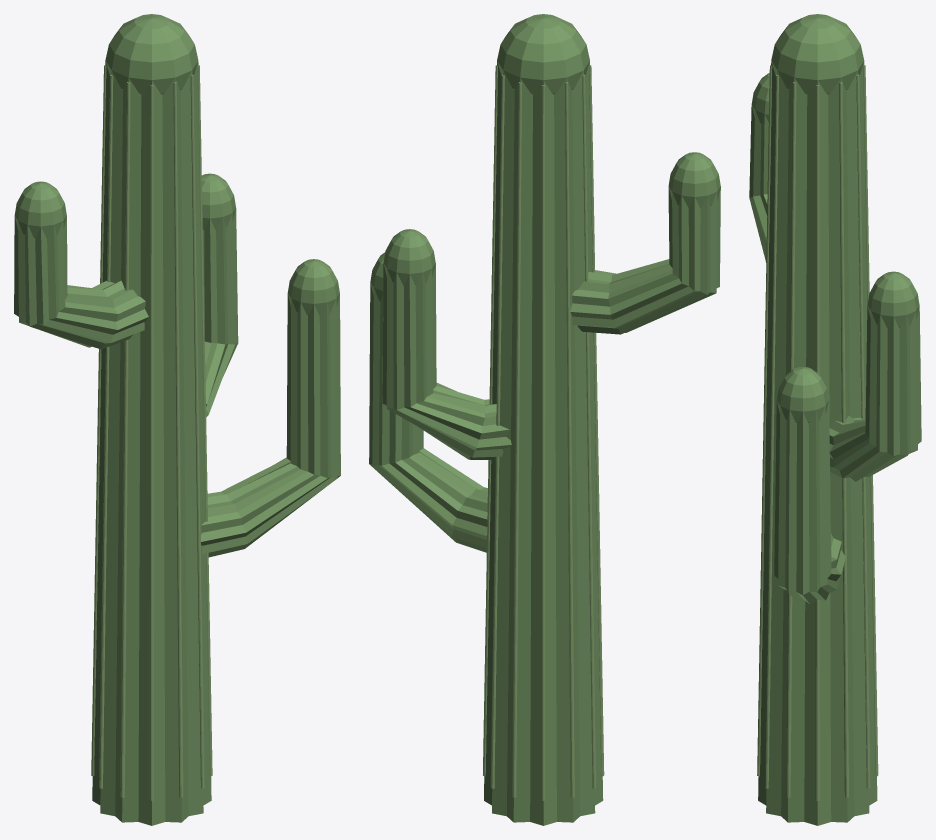
The model's file is cactus-2.glb.
3 views of the same model, side by side, from view 1: azimuth 30°, elevation 25°; view 2: azimuth 150°, elevation 25°; view 3: azimuth 270°, elevation 25° (orthographic).
Parts seen in each view (by area): view 1: cactus-2; view 2: cactus-2; view 3: cactus-2.
Boxes of the visible parts, x1,y1,x2,y2 form: cactus-2: [14, 14, 340, 825]; cactus-2: [369, 14, 720, 825]; cactus-2: [749, 14, 921, 825].
Size of the model in its own units: 2.05 by 4.63 by 0.9244.
